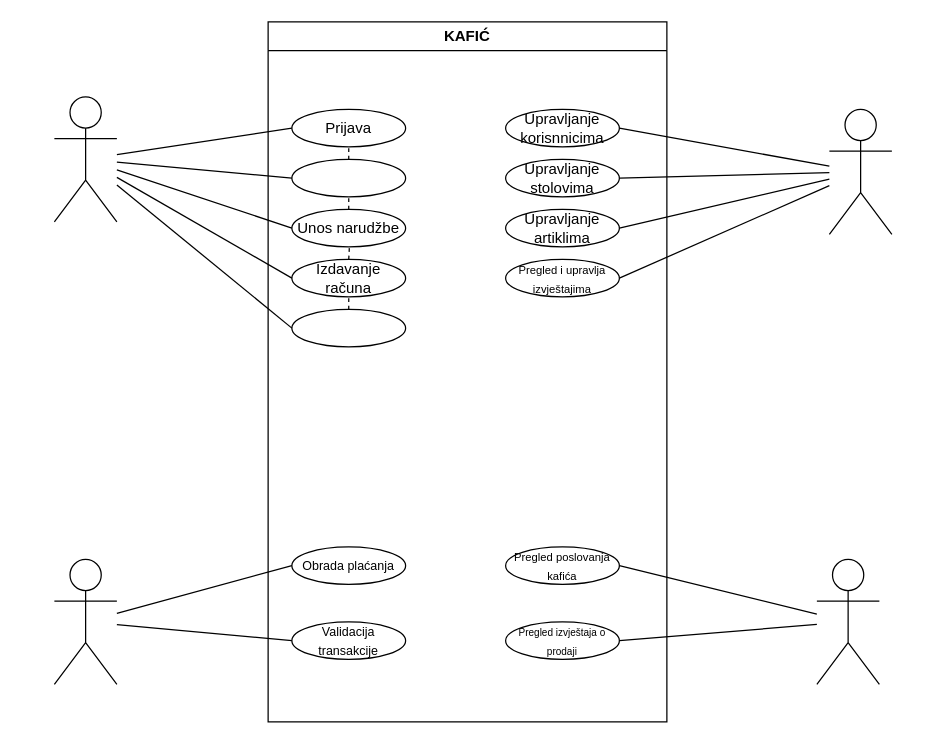
The diagram is 944 pixels wide and 744 high, and some of its shapes have lost their labels. The centre of each missing label's shape, as x and y in pixels:
ADMINISTRATOR: (860,171)
KONOBAR: (85,159)
Pregled izvještaja o narudžbama: (348,327)
Pregled stolova: (348,177)
SUSTAV NAPLATE: (85,621)
VLASNIK: (847,621)
